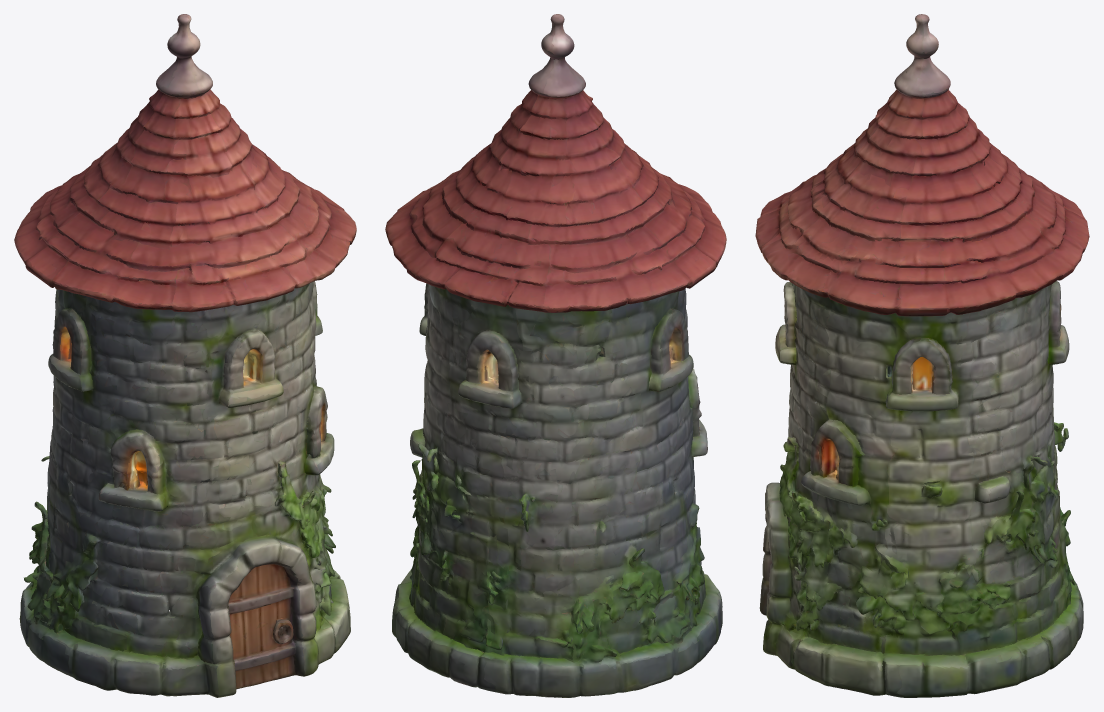
Rendered from tower.glb.
3 views of the same model, side by side, from view 1: azimuth 30°, elevation 25°; view 2: azimuth 150°, elevation 25°; view 3: azimuth 270°, elevation 25° (orthographic).
Parts seen in each view (by area): view 1: geometry_0; view 2: geometry_0; view 3: geometry_0.
Part boxes in pixels (bbox=[...]): geometry_0: bbox=[14, 14, 356, 697]; geometry_0: bbox=[385, 14, 726, 697]; geometry_0: bbox=[755, 14, 1089, 697].
Size of the model in its own units: 0.3256 by 0.65 by 0.3197.
Materials: 1 (1 with a texture image).
